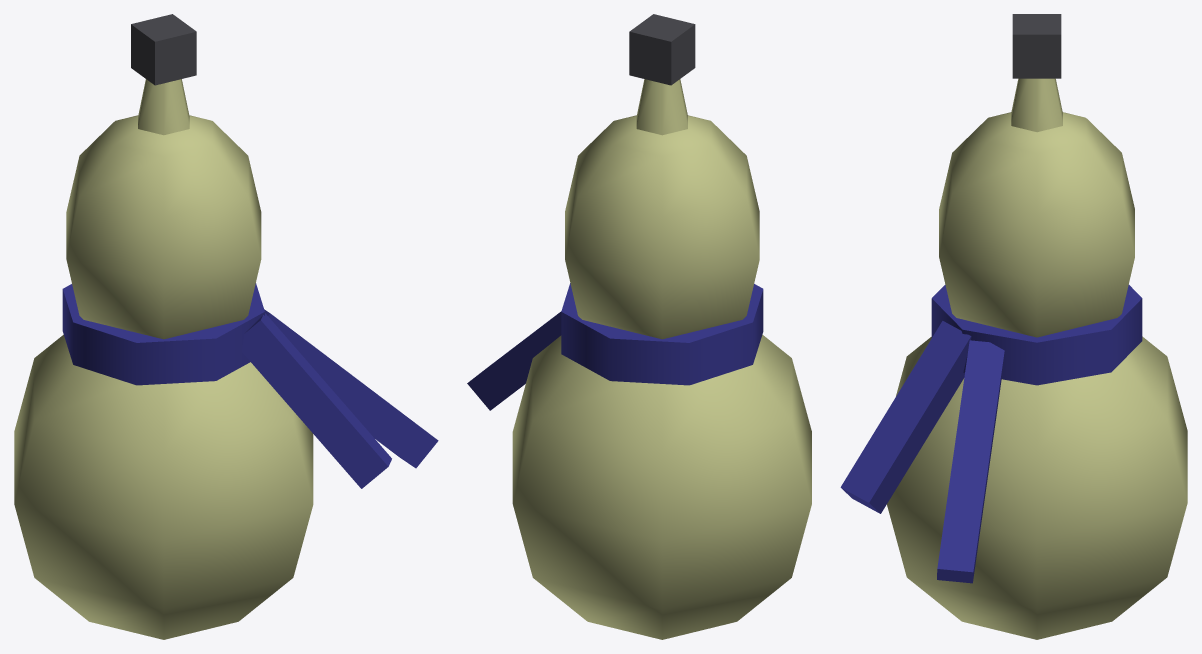
The model's file is SM_gourde.fbx.
3 renders of one model, left to right at view 1: azimuth 30°, elevation 25°; view 2: azimuth 150°, elevation 25°; view 3: azimuth 270°, elevation 25°, orthographic.
Parts seen in each view (by area): view 1: SM_gourde; view 2: SM_gourde; view 3: SM_gourde.
Boxes of the visible parts, x1,y1,x2,y2 form: SM_gourde: (14,14,438,639); SM_gourde: (467,14,811,639); SM_gourde: (840,14,1187,639).
Bounding box in the file's own units: 31.86 × 46.54 × 25.28.
